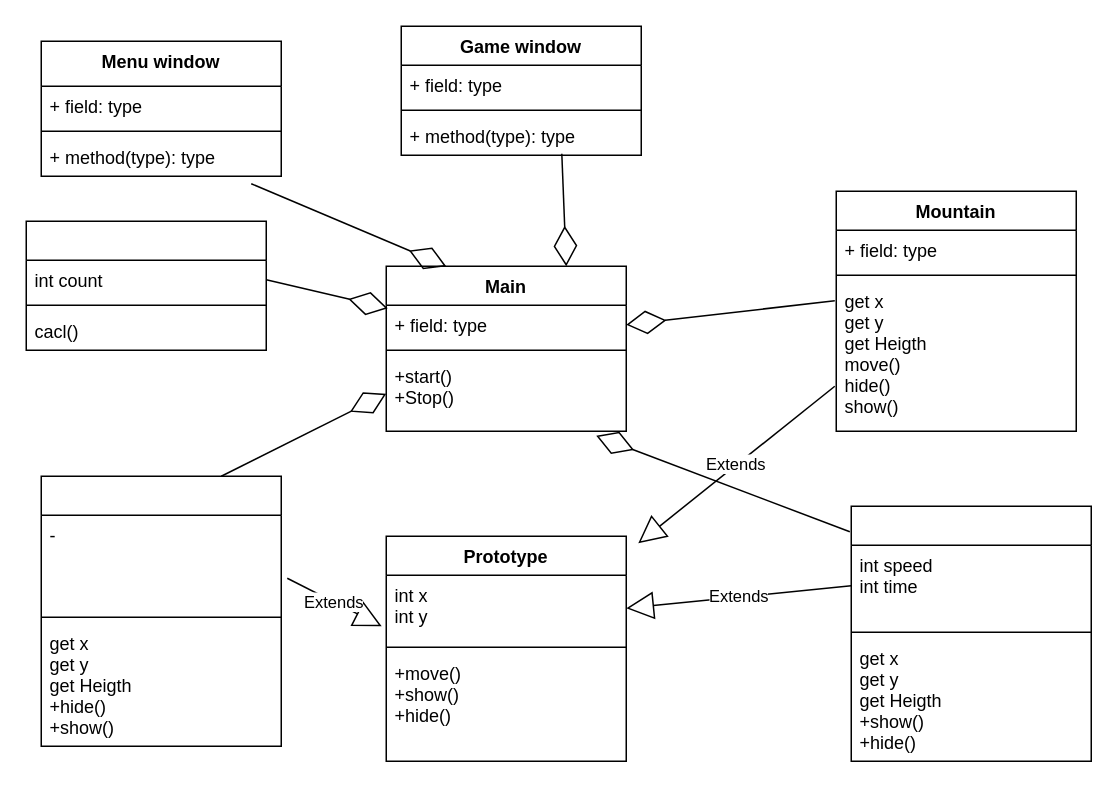
Some shapes in this 1118 by 792 pixel diagram are drawn without their labels. Here are the shapes that lost their labels. From the top down, the box of each, then its label:
(25, 220, 266, 350): Counter
(40, 475, 281, 746): mountaineer
(850, 505, 1091, 761): Avalanche
